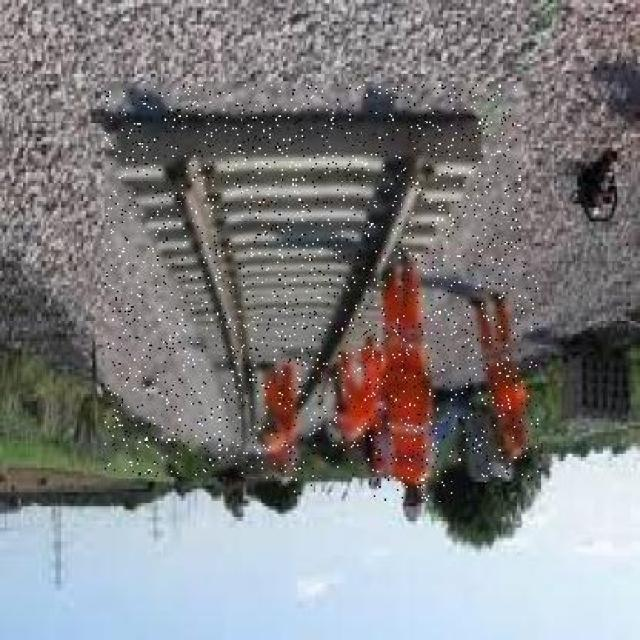danger: (374, 273, 456, 501), (469, 263, 538, 482), (255, 350, 314, 496), (334, 317, 388, 471)
rail: (105, 85, 520, 476)
